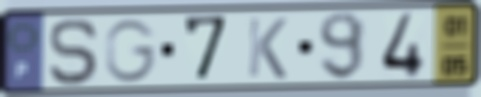4: (379, 10, 428, 81)
7: (181, 14, 229, 85)
9: (316, 10, 369, 84)
G: (103, 17, 161, 85)
K: (245, 15, 290, 81)
S: (46, 16, 103, 88)
